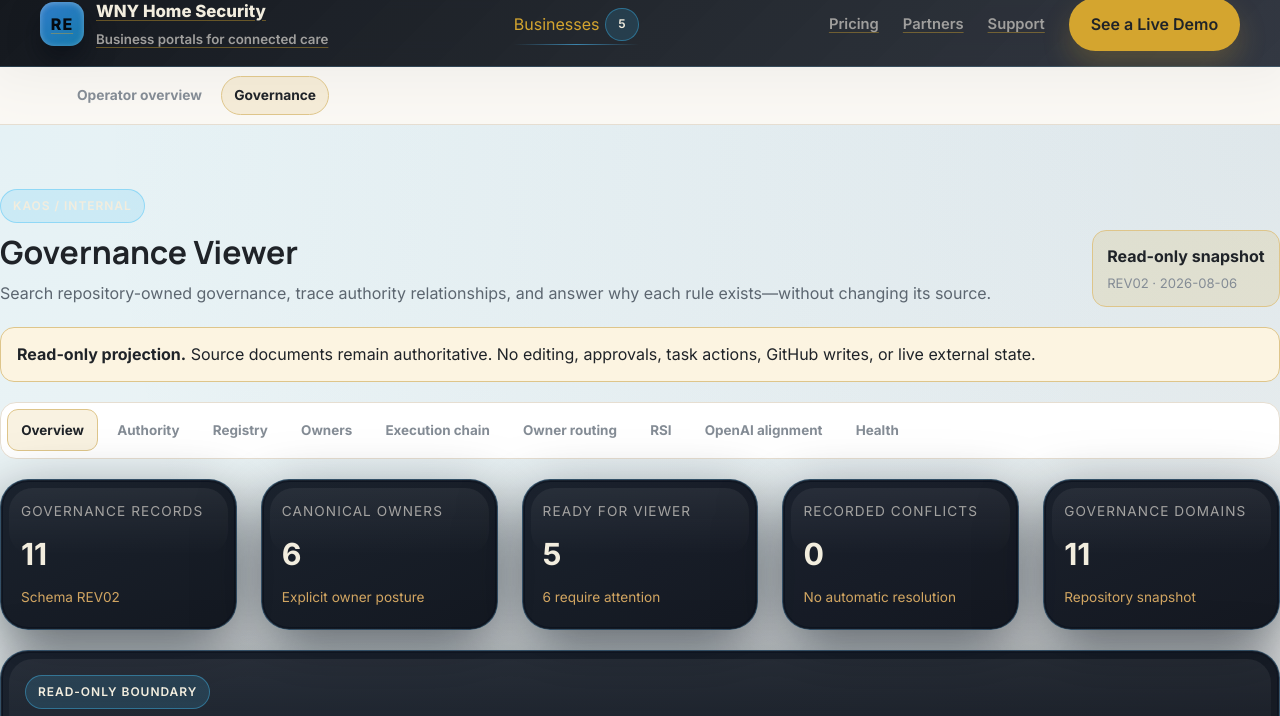
Governance Viewer route and read-only interactions › selects a record, exposes authority and provenance, and traverses graph relationships
This screenshot has width=1280, height=716.
Click the tab "Registry".
click(240, 430)  # box [199,409,282,451]
(page scrolled)
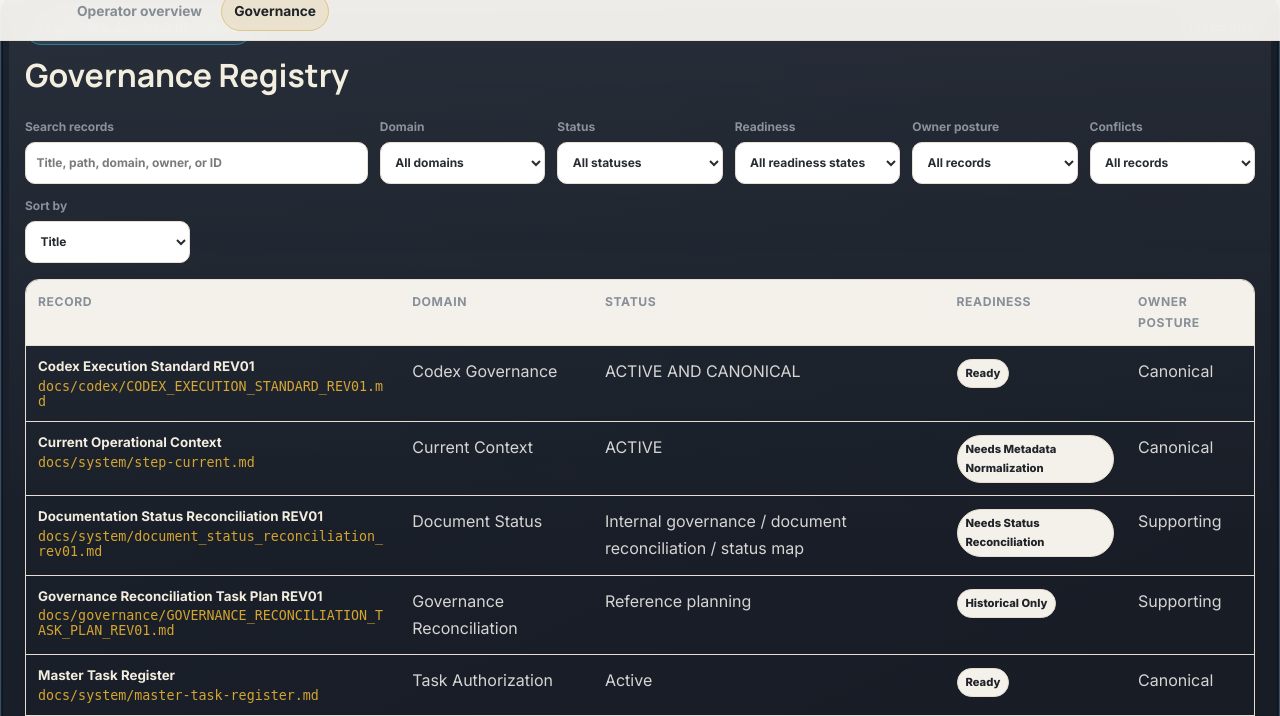
Click the button "Codex Execution Standard REV01".
click(213, 384)  # box [38,358,388,409]
(page scrolled)
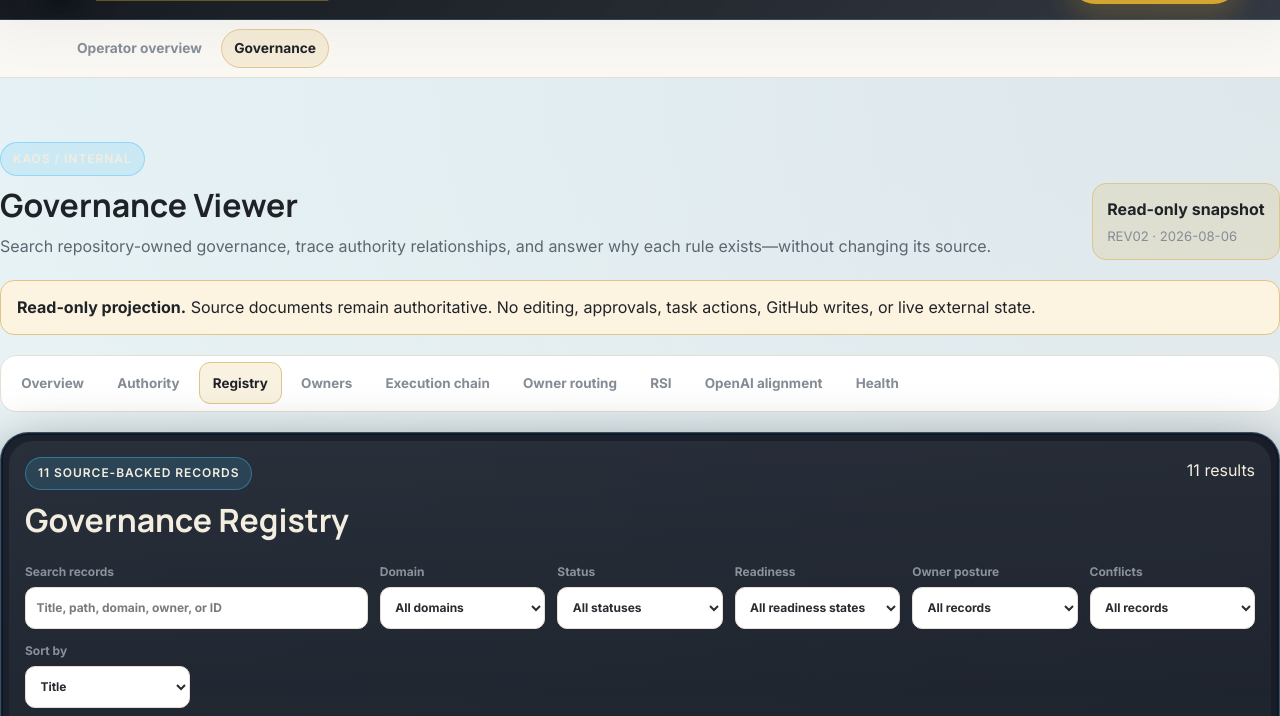
Click the tab "Authority".
click(148, 383)  # box [103,362,193,404]
(page scrolled)
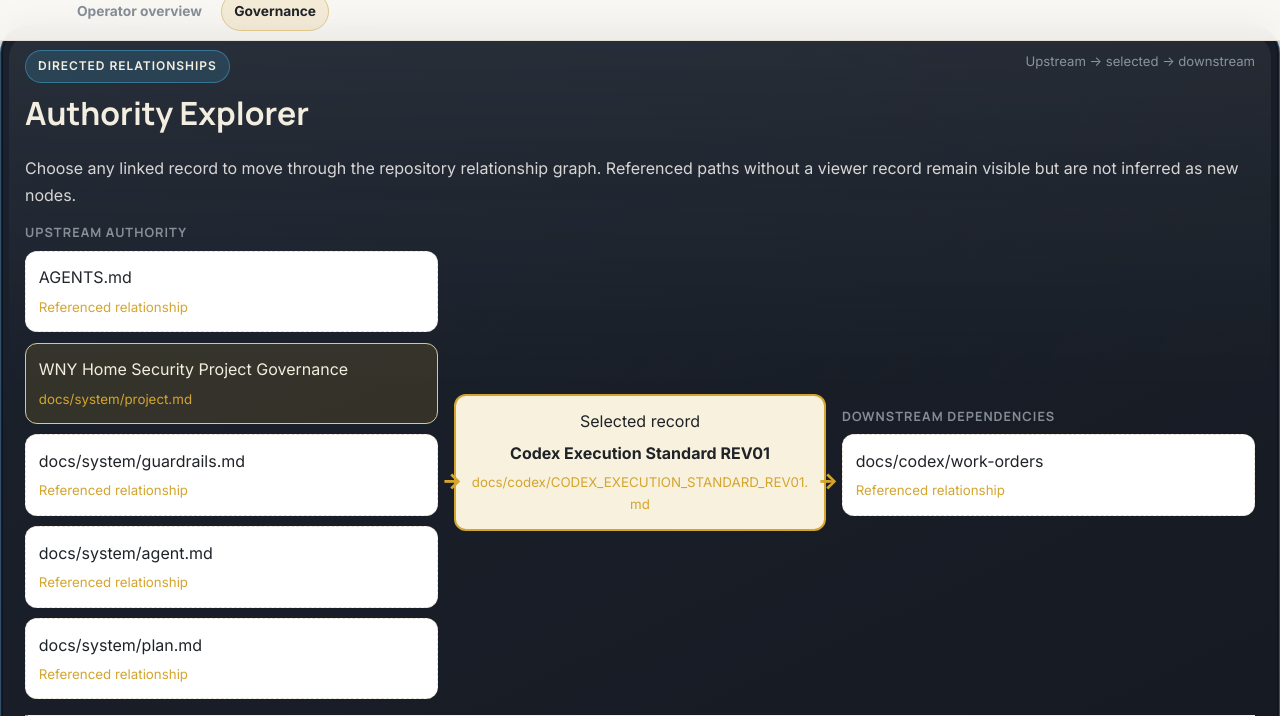
Expected: the element named "Selected node: Codex Execution Standard REV01" is shown, [454,394,826,531]
Click the button "WNY Home Security Project Governance docs/system/project.md".
click(193, 369)  # box [25,342,438,424]
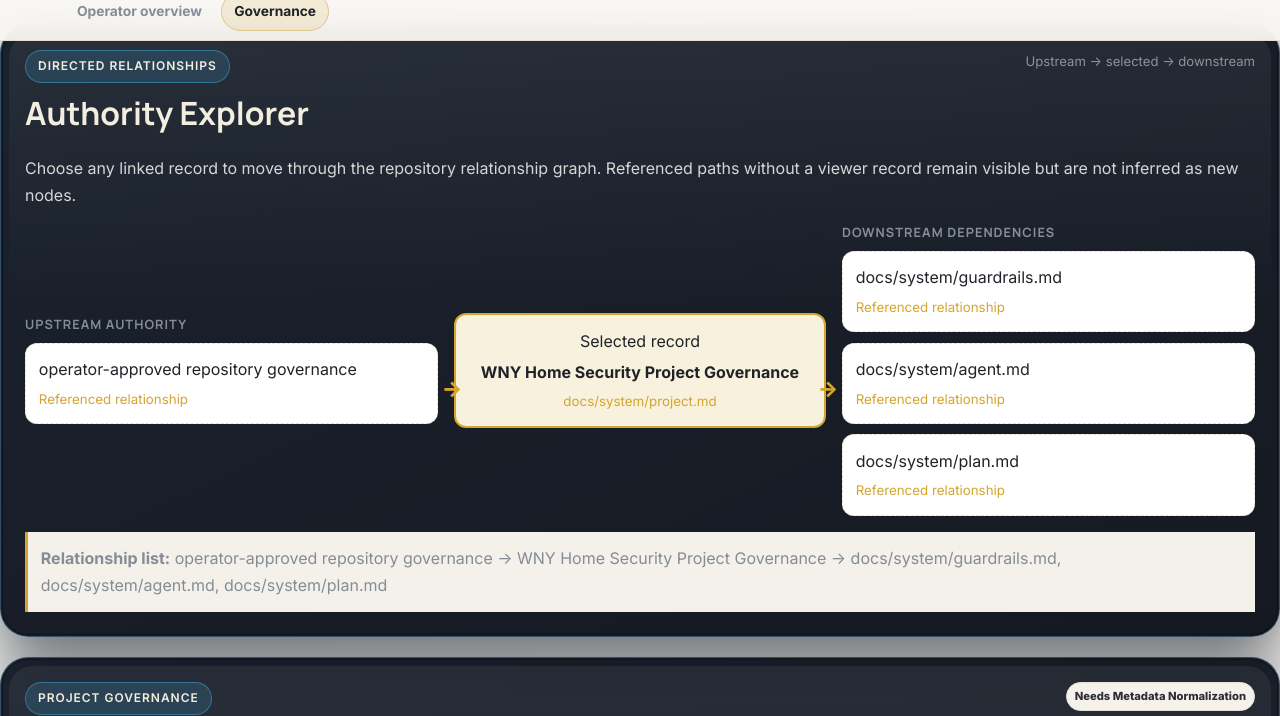
Expected: the element named "Text relationship equivalent" is shown, [25,532,1255,612]
Expected: the element named "Selected node: WNY Home Security Project Governance" is shown, [454,313,826,428]
